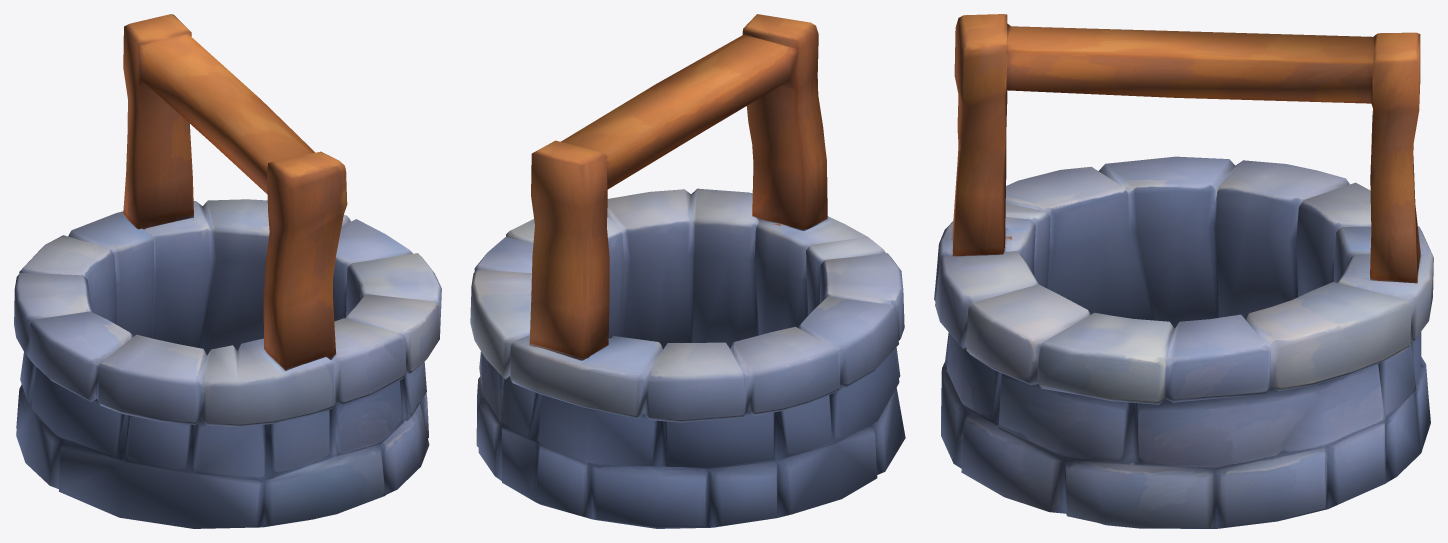
The picture shows the model from 3 angles, left to right: view 1: azimuth 30°, elevation 25°; view 2: azimuth 150°, elevation 25°; view 3: azimuth 270°, elevation 25°; orthographic projection. The views are drawn at different scales.
Parts seen in each view (by area): view 1: tripo_node_7bfc6901-3a5f-49f9-af0a-90ba00078aa7; view 2: tripo_node_7bfc6901-3a5f-49f9-af0a-90ba00078aa7; view 3: tripo_node_7bfc6901-3a5f-49f9-af0a-90ba00078aa7.
Part boxes in pixels (x1,y1,x2,y2): tripo_node_7bfc6901-3a5f-49f9-af0a-90ba00078aa7: (14,14,441,528); tripo_node_7bfc6901-3a5f-49f9-af0a-90ba00078aa7: (470,14,905,528); tripo_node_7bfc6901-3a5f-49f9-af0a-90ba00078aa7: (934,14,1433,528).
Size of the model in its own units: 0.9863 by 0.8887 by 0.998.
Materials: 1 (1 with a texture image).
